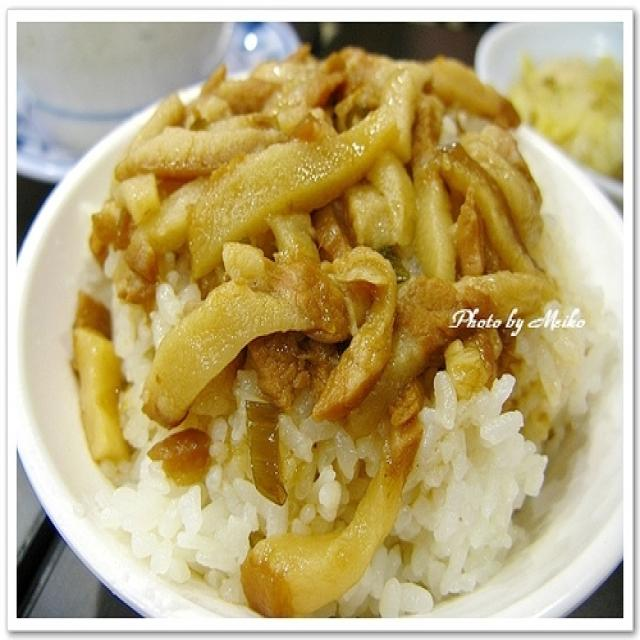猪肉菜式: (41, 32, 603, 601)
